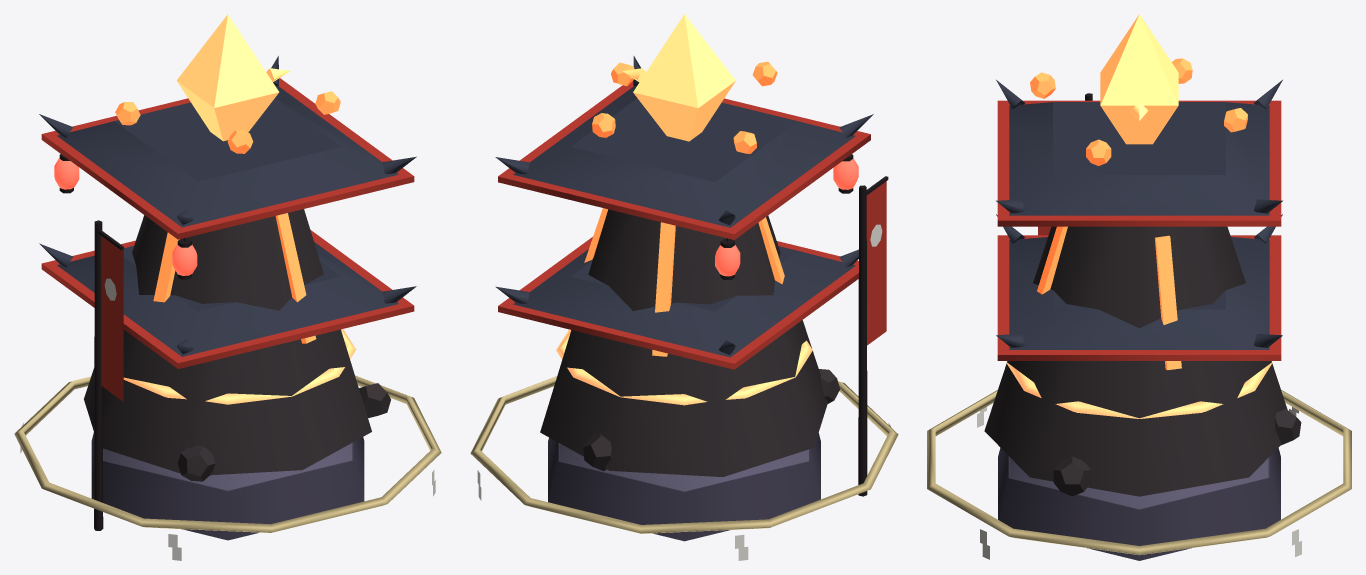
Rendered from tower_element_elementVolcano.glb.
3 renders of one model, left to right at view 1: azimuth 30°, elevation 25°; view 2: azimuth 150°, elevation 25°; view 3: azimuth 270°, elevation 25°, orthographic. The views are drawn at different scales.
Visible parts, largest first — view 1: volcano, deco_eave_0_roof, deco_eave_1_roof, base, crystal, deco_eave_0_rim, deco_shimenawa_rope, deco_eave_1_rim, deco_nobori_cloth, base_top, deco_nobori_pole, volcano_band (+8 smaller); view 2: volcano, deco_eave_0_roof, deco_eave_1_roof, base, crystal, deco_eave_0_rim, deco_shimenawa_rope, deco_eave_1_rim, deco_nobori_cloth, deco_nobori_pole, base_top, volcano_band (+7 smaller); view 3: volcano, deco_eave_0_roof, deco_eave_1_roof, base, crystal, deco_shimenawa_rope, deco_eave_0_rim, deco_eave_1_rim, base_top, volcano_band, lava_rivulet_1_flow, lava_rock_0 (+5 smaller).
Boxes of the visible parts, x1=… form: volcano: x1=84, y1=209, x2=371, y2=475; deco_eave_0_roof: x1=57, y1=86, x2=398, y2=227; deco_eave_1_roof: x1=57, y1=242, x2=398, y2=356; base: x1=91, y1=432, x2=364, y2=540; crystal: x1=176, y1=14, x2=279, y2=141; deco_eave_0_rim: x1=41, y1=78, x2=414, y2=239; deco_shimenawa_rope: x1=14, y1=375, x2=441, y2=532; deco_eave_1_rim: x1=41, y1=230, x2=414, y2=368; deco_nobori_cloth: x1=101, y1=236, x2=123, y2=401; base_top: x1=103, y1=443, x2=352, y2=490; deco_nobori_pole: x1=94, y1=220, x2=103, y2=530; volcano_band: x1=123, y1=329, x2=356, y2=404; volcano: x1=540, y1=209, x2=827, y2=476; deco_eave_0_roof: x1=513, y1=86, x2=855, y2=227; deco_eave_1_roof: x1=513, y1=246, x2=855, y2=357; base: x1=548, y1=433, x2=820, y2=541; crystal: x1=633, y1=14, x2=735, y2=141; deco_eave_0_rim: x1=498, y1=81, x2=870, y2=239; deco_shimenawa_rope: x1=470, y1=376, x2=898, y2=533; deco_eave_1_rim: x1=498, y1=237, x2=858, y2=369; deco_nobori_cloth: x1=866, y1=181, x2=886, y2=345; deco_nobori_pole: x1=858, y1=185, x2=867, y2=496; base_top: x1=560, y1=443, x2=808, y2=491; volcano_band: x1=556, y1=329, x2=812, y2=405; volcano: x1=984, y1=226, x2=1287, y2=496; deco_eave_0_roof: x1=1009, y1=102, x2=1269, y2=215; deco_eave_1_roof: x1=1009, y1=237, x2=1269, y2=349; base: x1=998, y1=448, x2=1280, y2=560; crystal: x1=1100, y1=14, x2=1178, y2=144; deco_shimenawa_rope: x1=927, y1=390, x2=1351, y2=555; deco_eave_0_rim: x1=997, y1=100, x2=1281, y2=226; deco_eave_1_rim: x1=997, y1=235, x2=1281, y2=360; base_top: x1=1010, y1=458, x2=1268, y2=509; volcano_band: x1=1006, y1=362, x2=1272, y2=418; lava_rivulet_1_flow: x1=1155, y1=235, x2=1181, y2=370; lava_rock_0: x1=1053, y1=456, x2=1091, y2=496.
Size of the model in its own units: 0.5326 by 0.629 by 0.5066.
